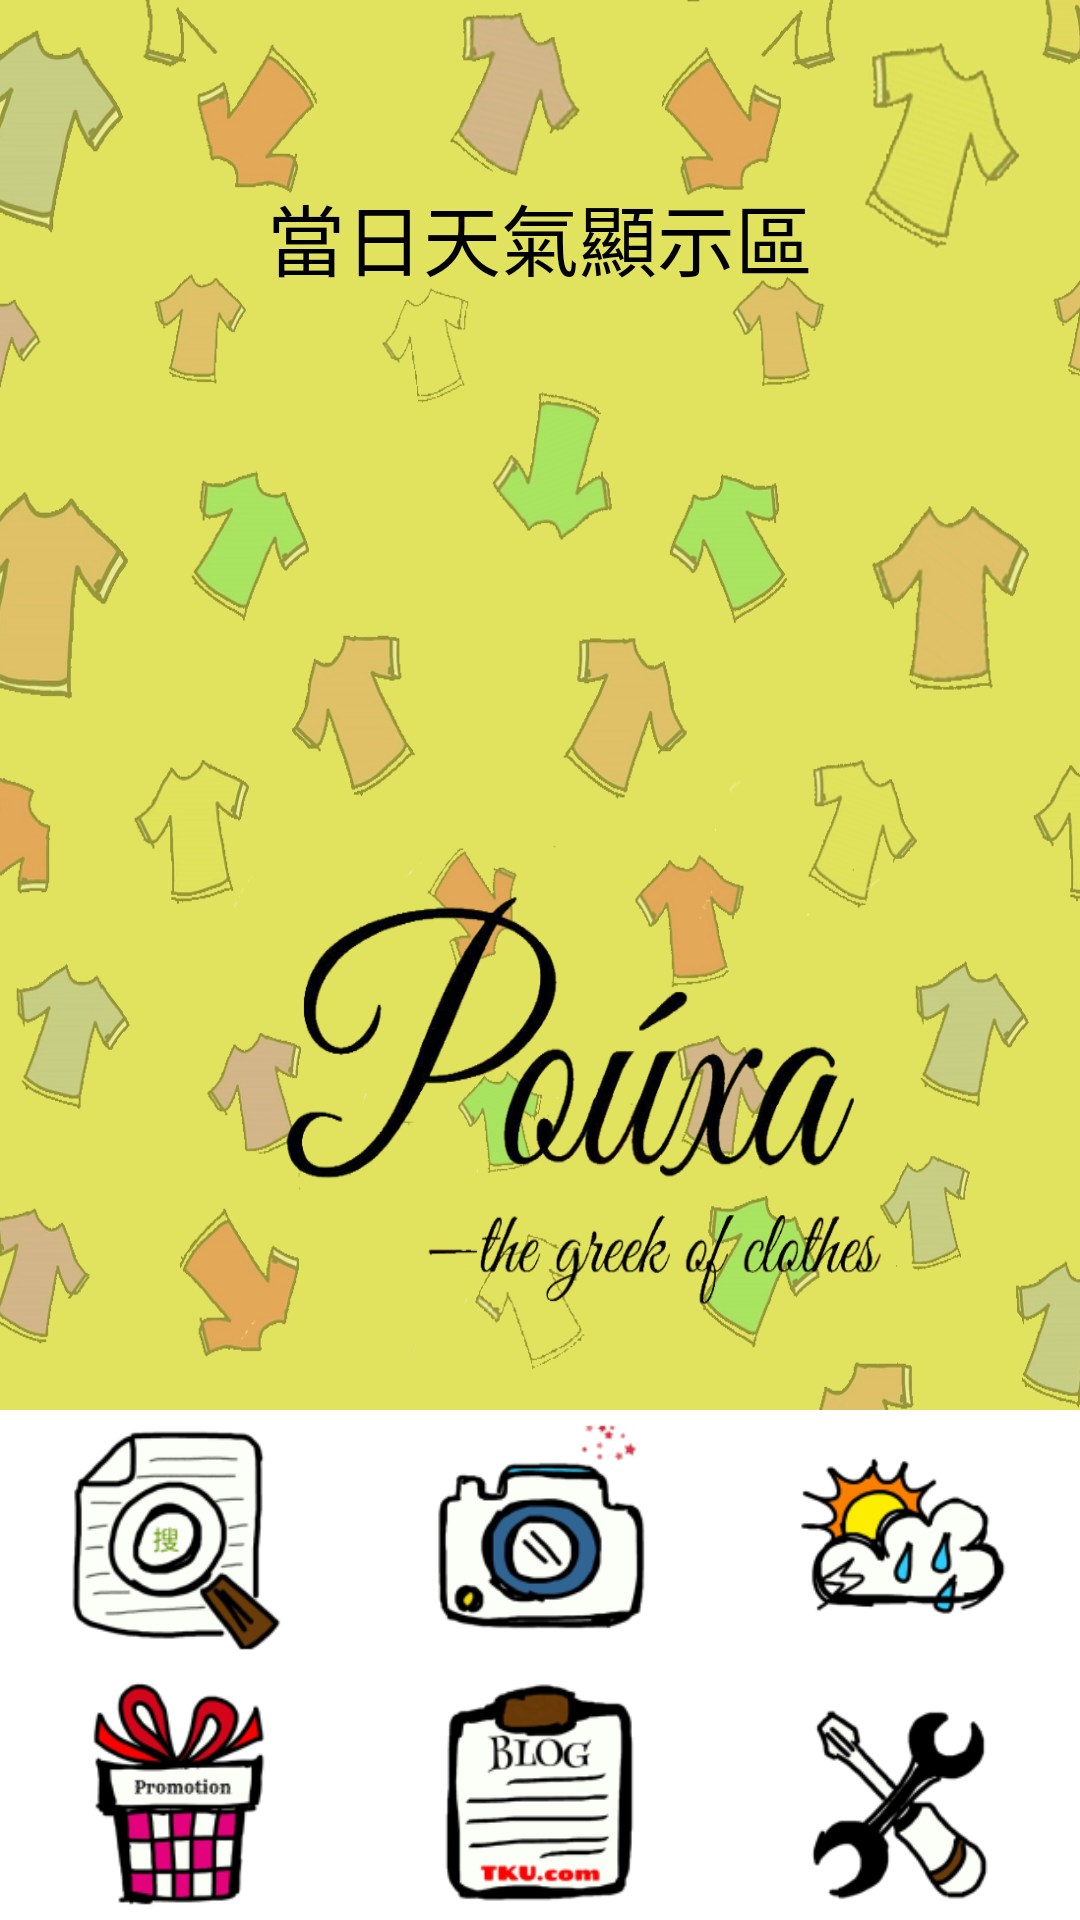

Named icons in this screenshot (1080w x 1920h) and their centers, (x=x, y=y):
event: (x=179, y=1794)
setting: (x=900, y=1804)
weather: (x=903, y=1536)
